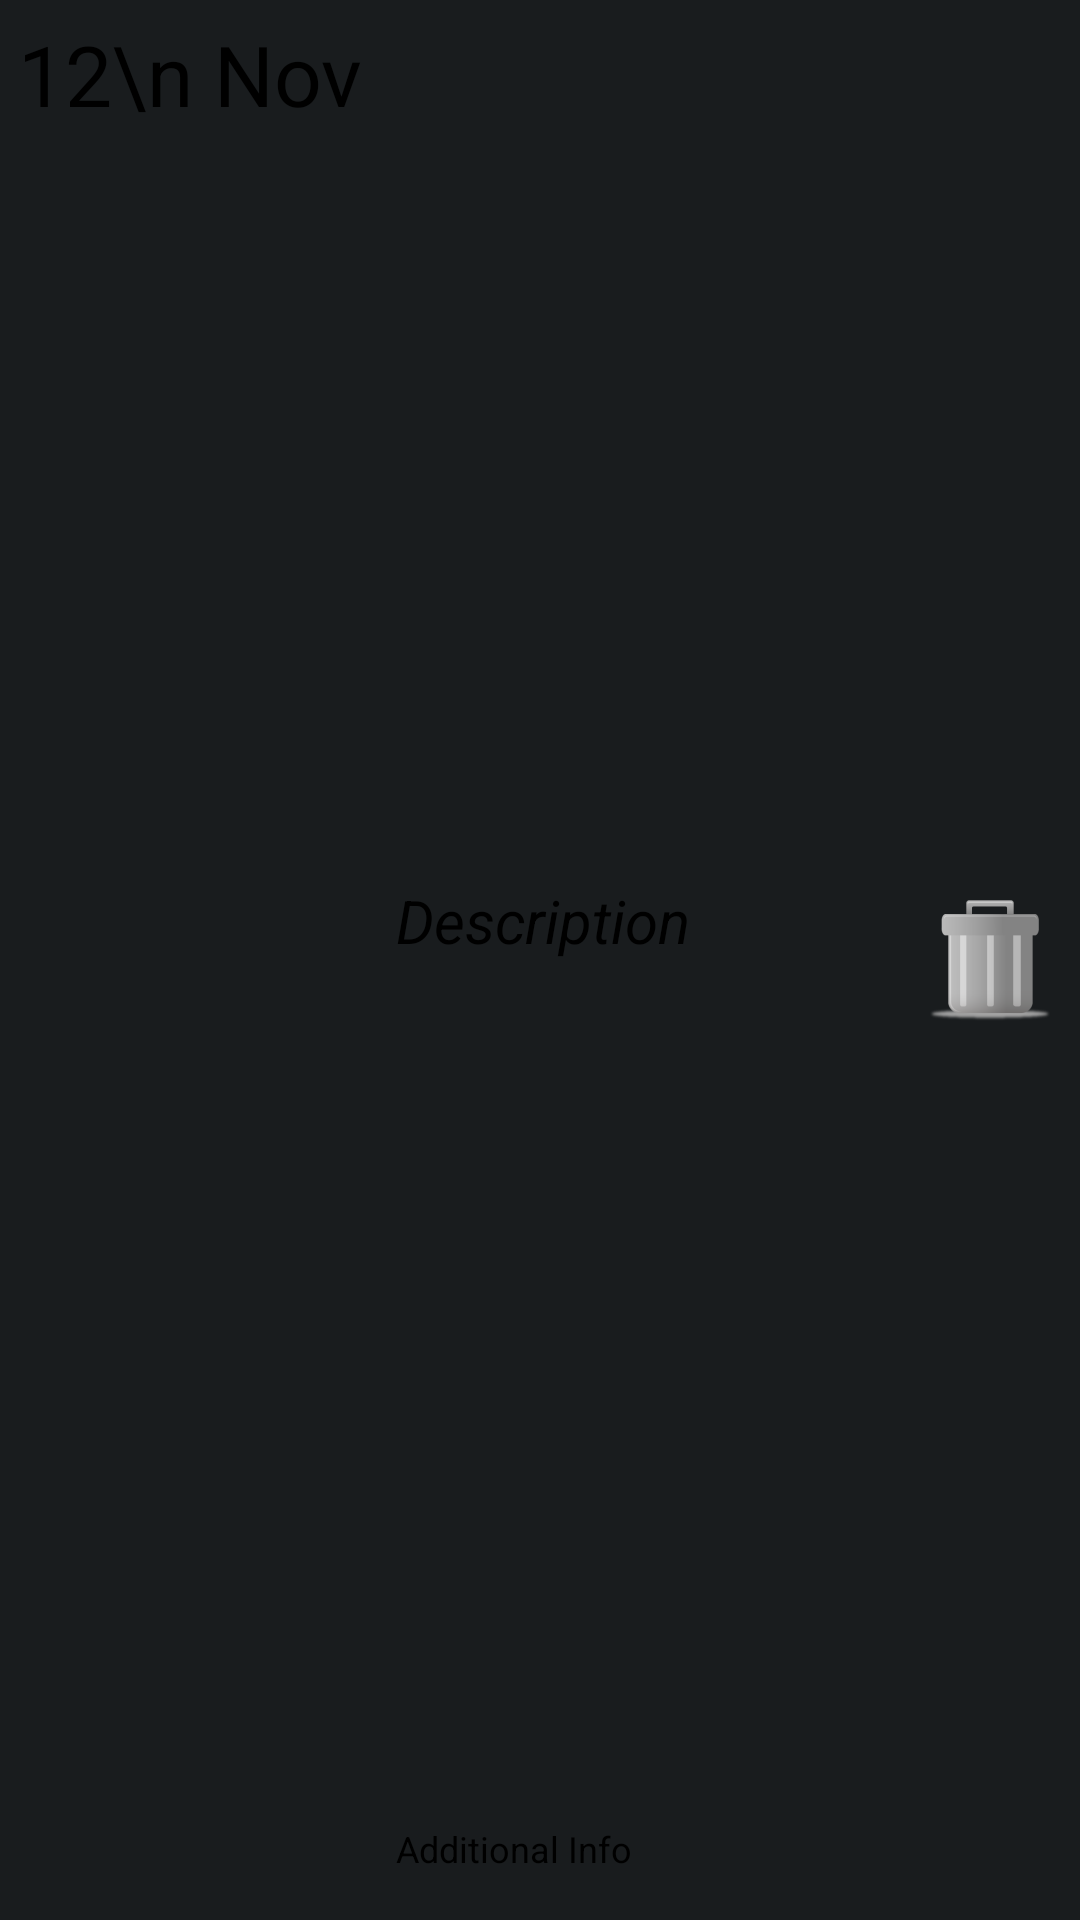

Point at icon controls on the screen. Image size 1080w x 1920h, points as (x=x, y=y).
trash: (x=990, y=959)
